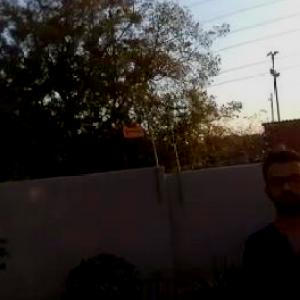follow: (237, 137, 300, 299)
